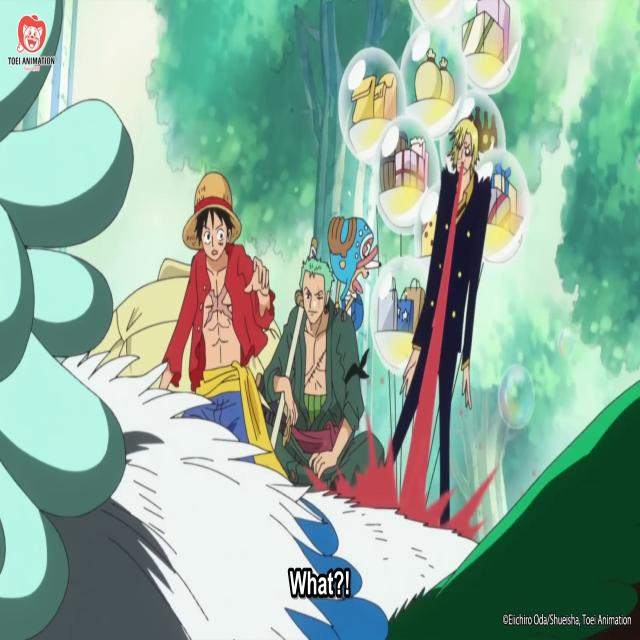Chopper: (331, 177, 376, 332)
Luffy: (172, 39, 264, 476)
Sanji: (402, 135, 493, 537)
Zoro: (264, 249, 362, 496)
